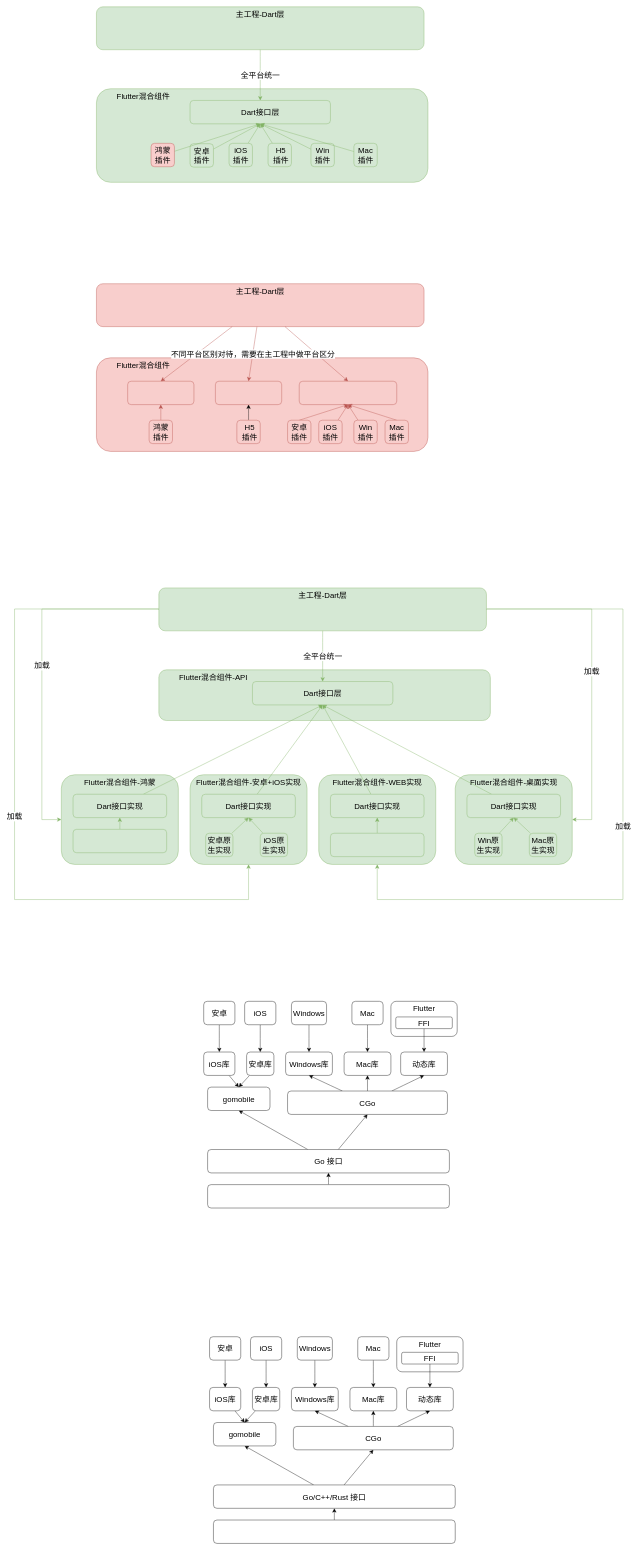
This 637x1550 diagram has some shape labels left out. Each missing label, with the centre of its shape:
"Go/C++/Rust 实现" goes at pixel 334 1531.
"Go实现" goes at pixel 328 1196.
"WASM实现" goes at pixel 377 845.
"WEB-Dart接口层" goes at pixel 248 393.
"其它-Dart接口层" goes at pixel 348 393.
"鸿蒙-Dart接口层" goes at pixel 160 393.
"鸿蒙原生实现" goes at pixel 120 841.
